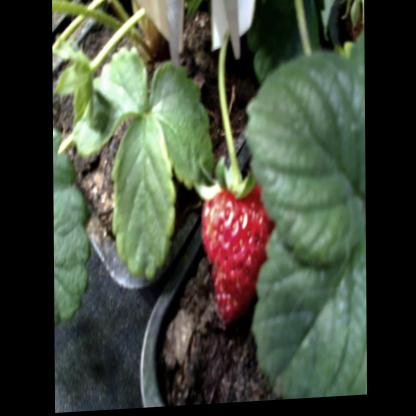ripe: (195, 182, 273, 335)
unripe: (219, 127, 251, 205)
